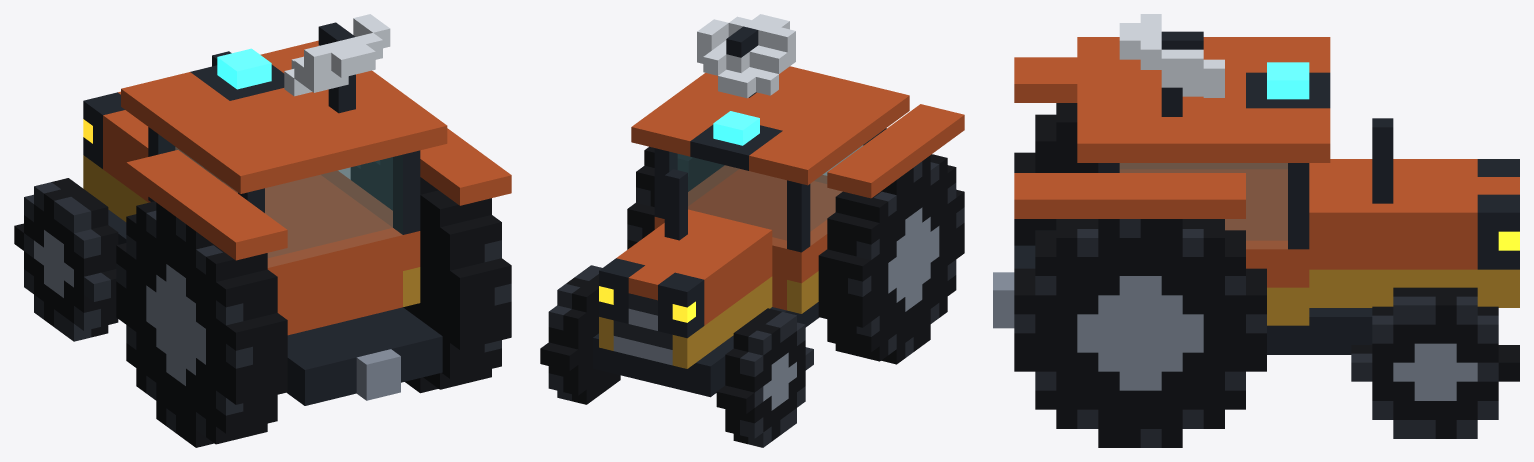
Rendered from tractor.glb.
3 views of the same model, side by side, from view 1: azimuth 30°, elevation 25°; view 2: azimuth 150°, elevation 25°; view 3: azimuth 270°, elevation 25° (orthographic). The views are drawn at different scales.
Parts seen in each view (by area): view 1: body, wheels, glass, emit_beacon; view 2: body, wheels, glass, emit_beacon, emit_headlights; view 3: body, wheels, glass, emit_beacon.
Part boxes in pixels (x1,y1,x2,y2): body: (83,14,511,405); wheels: (14,157,511,447); glass: (158,135,402,267); emit_beacon: (217,48,271,89); body: (593,14,964,397); wheels: (540,146,964,447); glass: (669,135,876,248); emit_beacon: (713,111,759,145); emit_headlights: (599,286,695,322); body: (993,14,1519,354); wheels: (1014,103,1519,447); glass: (1119,163,1287,248); emit_beacon: (1267,62,1309,99).
Bounding box in the file's own units: 16 × 19 × 25.
